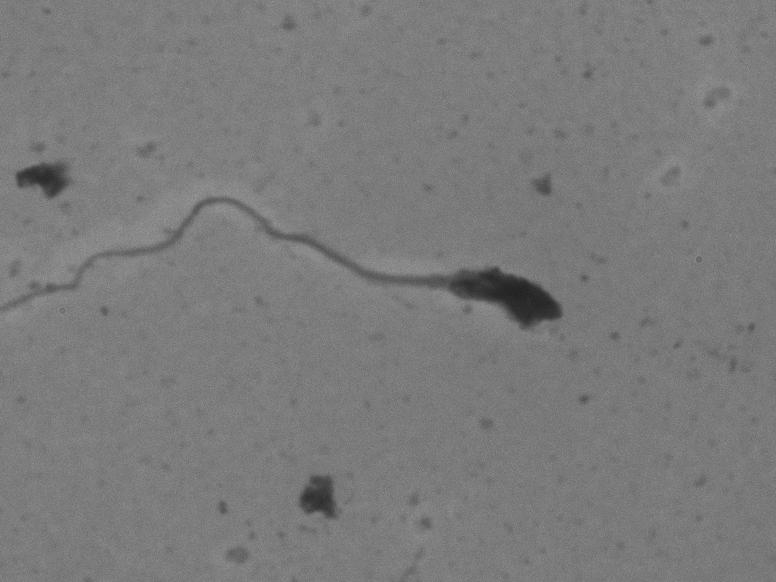Abnormal: (27, 174, 597, 384)
